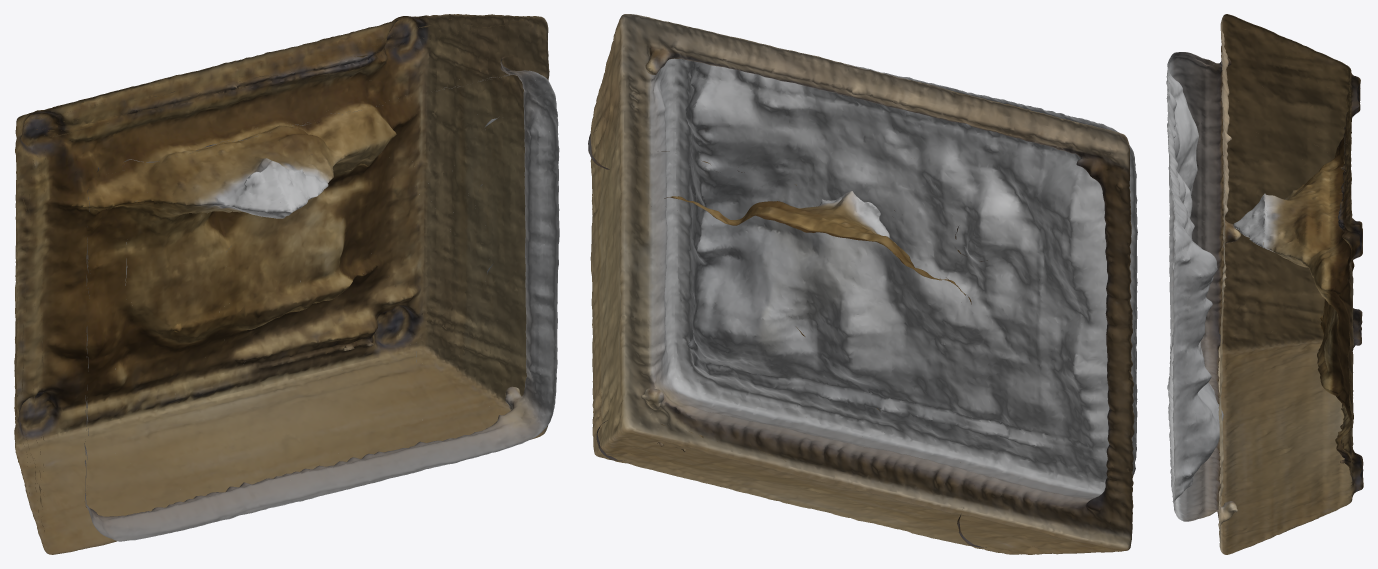
Rendered from soap.glb.
3 views of the same model, side by side, from view 1: azimuth 30°, elevation 25°; view 2: azimuth 150°, elevation 25°; view 3: azimuth 270°, elevation 25° (orthographic). The views are drawn at different scales.
Size of the model in its own units: 1 by 0.7947 by 0.4068.
